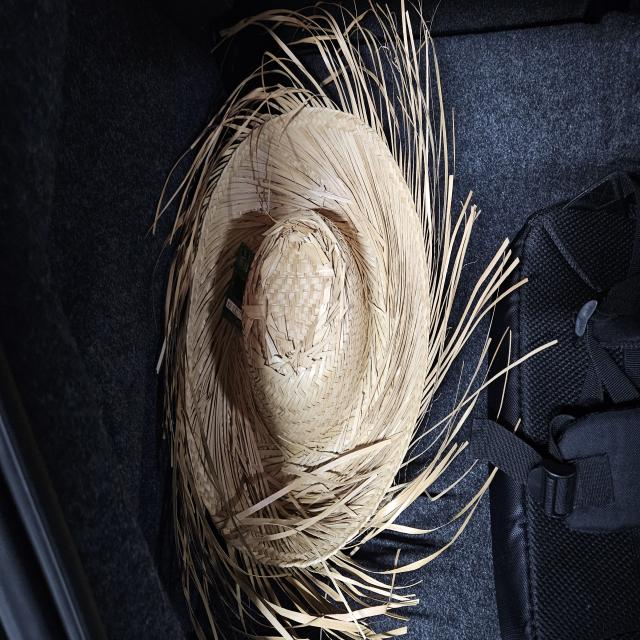som: (221, 235, 255, 335)
